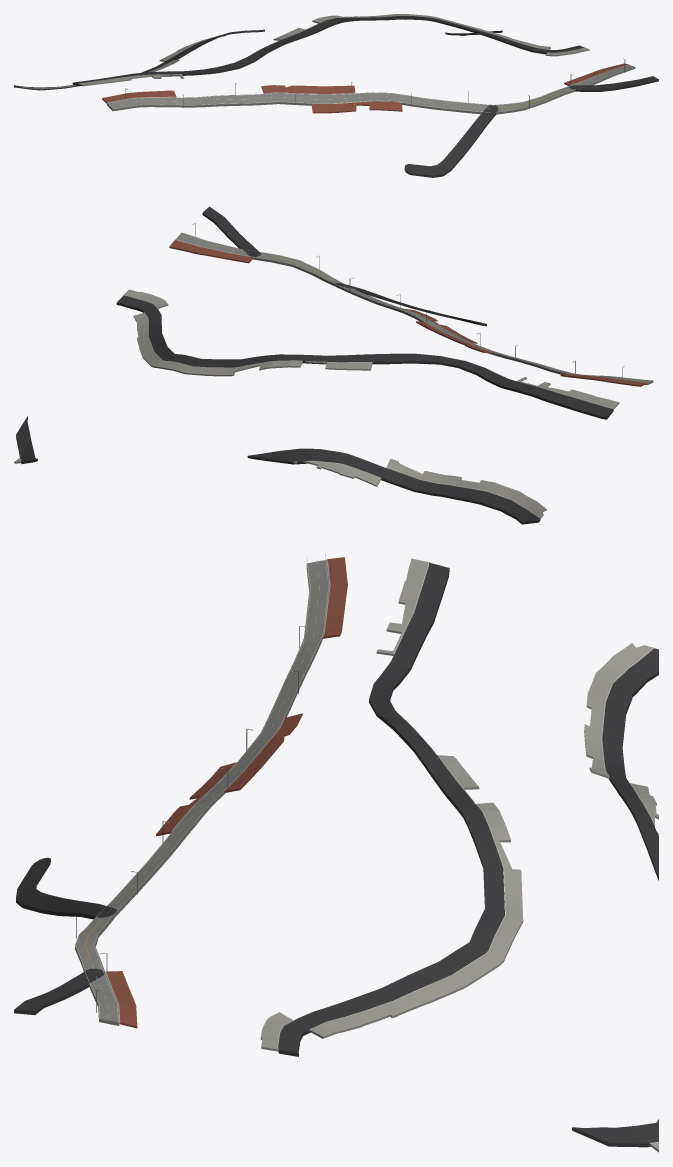
File: 17-109458-59476.8acf999b.glb
3 renders of one model, top to bottom at view 1: azimuth 30°, elevation 25°; view 2: azimuth 150°, elevation 25°; view 3: azimuth 270°, elevation 25°, orthographic. The views are drawn at different scales.
Size of the model in its own units: 298 by 72.98 by 198.
